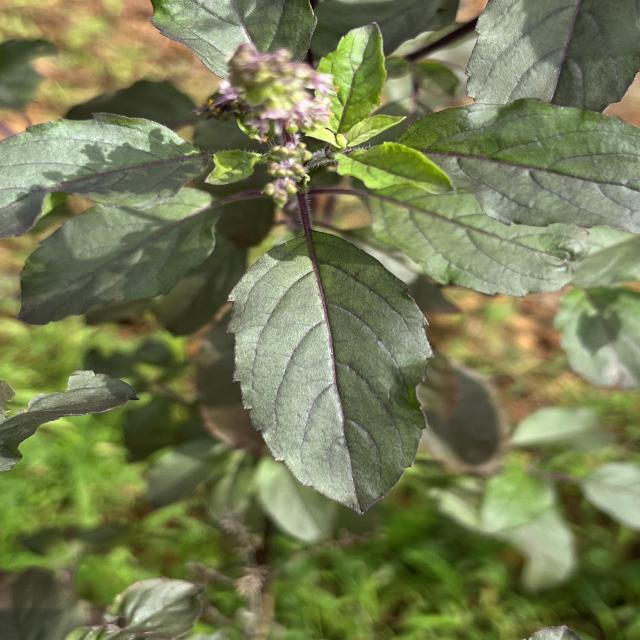Ocimum tenuiflorum: (225, 228, 440, 518)
